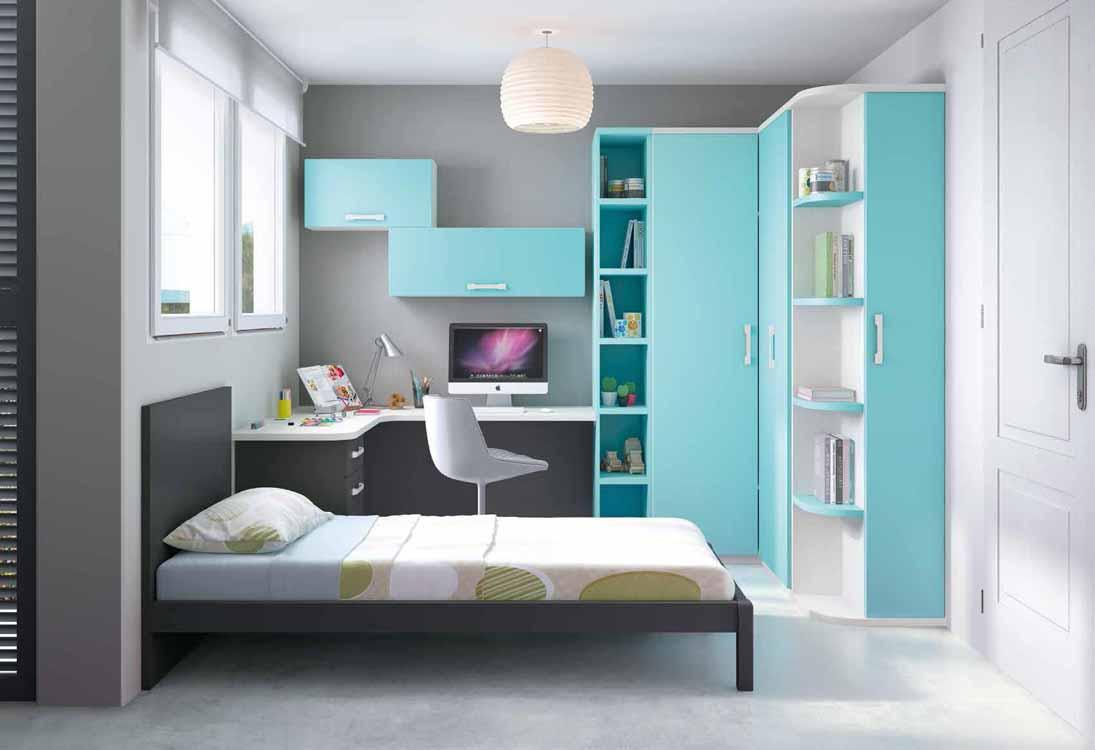bed: (175, 385, 753, 695)
